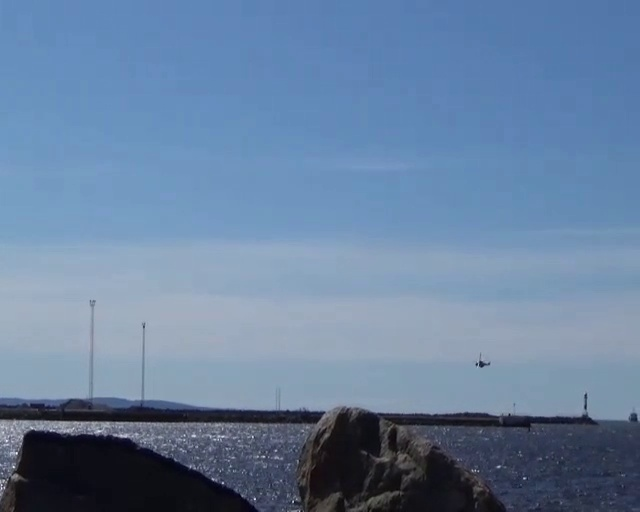HELICOPTER: (475, 352, 491, 368)
